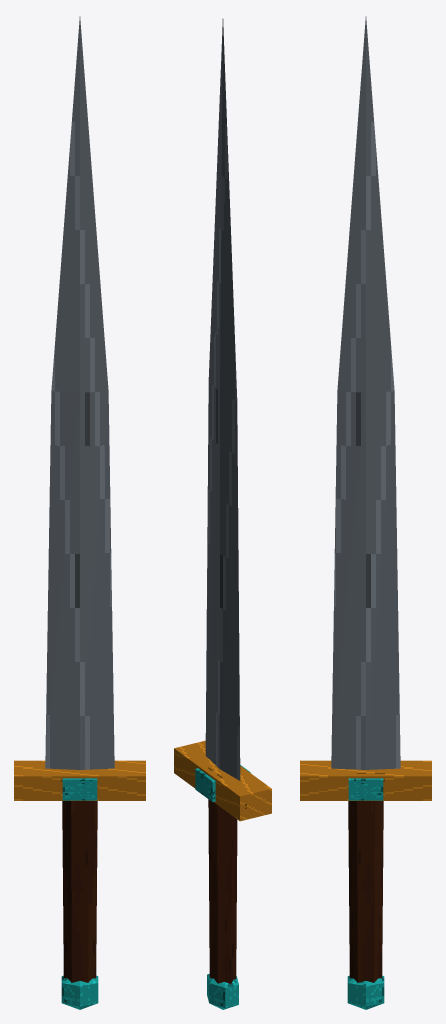
The model's file is espada_padre.glb.
The picture shows the model from 3 angles, left to right: view 1: azimuth 90°, elevation 25°; view 2: azimuth 210°, elevation 25°; view 3: azimuth 270°, elevation 25°; orthographic projection.
Visible parts, largest first — view 1: hoja, empunadura, guarda, pomo, incrustaciones; view 2: hoja, empunadura, guarda, pomo, incrustaciones; view 3: hoja, empunadura, guarda, pomo, incrustaciones.
Part boxes in pixels (left/top/right/bottom): hoja: left=45, top=16, right=114, bottom=769; empunadura: left=62, top=801, right=97, bottom=982; guarda: left=14, top=760, right=145, bottom=800; pomo: left=61, top=975, right=98, bottom=1009; incrustaciones: left=62, top=778, right=97, bottom=800; hoja: left=205, top=18, right=240, bottom=780; empunadura: left=208, top=799, right=237, bottom=984; guarda: left=174, top=740, right=271, bottom=821; pomo: left=207, top=974, right=238, bottom=1009; incrustaciones: left=195, top=765, right=250, bottom=802; hoja: left=331, top=16, right=400, bottom=769; empunadura: left=348, top=801, right=383, bottom=982; guarda: left=300, top=760, right=431, bottom=800; pomo: left=347, top=975, right=384, bottom=1009; incrustaciones: left=348, top=778, right=383, bottom=800.
Bounding box in the file's own units: 0.04 × 1 × 0.12.
1 material, 1 textured.
